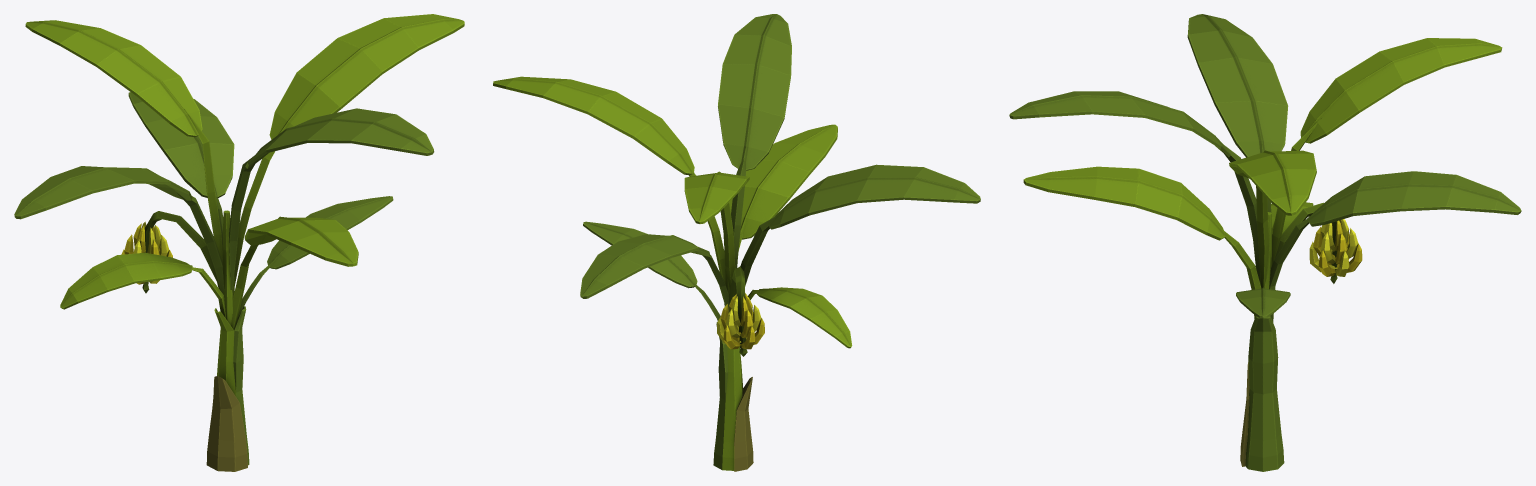
File: BananaTree.obj
The picture shows the model from 3 angles, left to right: view 1: azimuth 30°, elevation 25°; view 2: azimuth 150°, elevation 25°; view 3: azimuth 270°, elevation 25°; orthographic projection. The views are drawn at different scales.
Parts seen in each view (by area): view 1: BananaTree_mesh; view 2: BananaTree_mesh; view 3: BananaTree_mesh.
Part boxes in pixels (left/top/right/bottom): BananaTree_mesh: left=14, top=14, right=464, bottom=471; BananaTree_mesh: left=493, top=14, right=980, bottom=471; BananaTree_mesh: left=1009, top=14, right=1521, bottom=471.
Size of the model in its own units: 18.04 by 13.74 by 16.16.
Materials: 1 (1 with a texture image).
